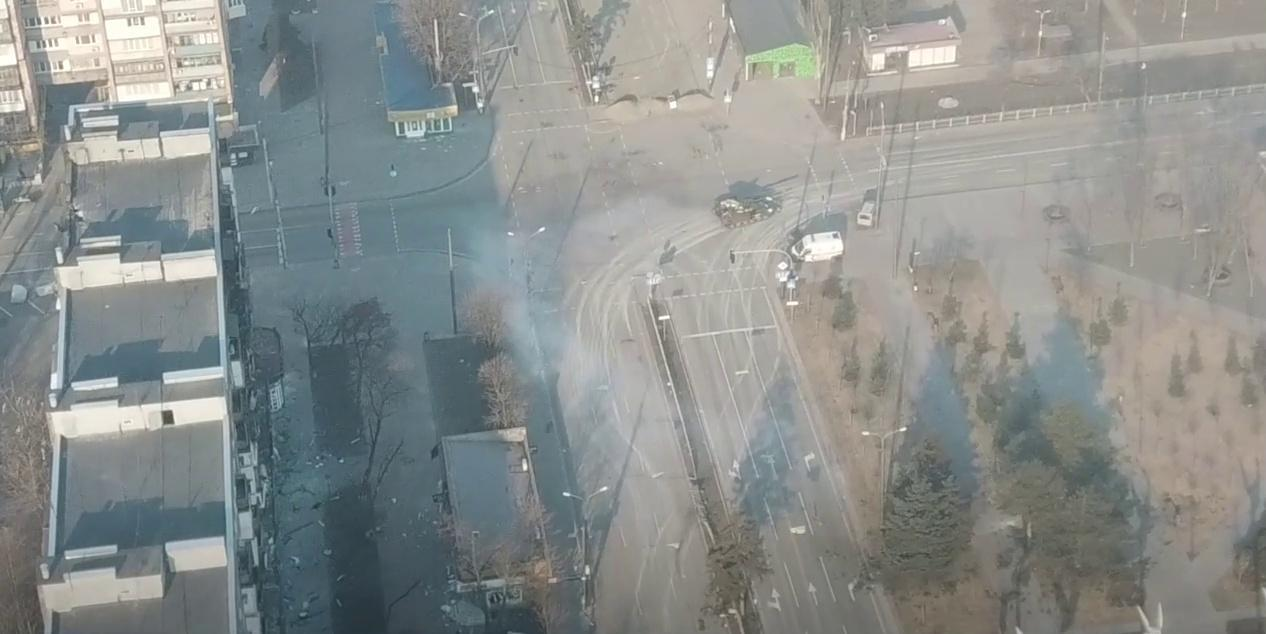tank: (712, 186, 794, 229)
